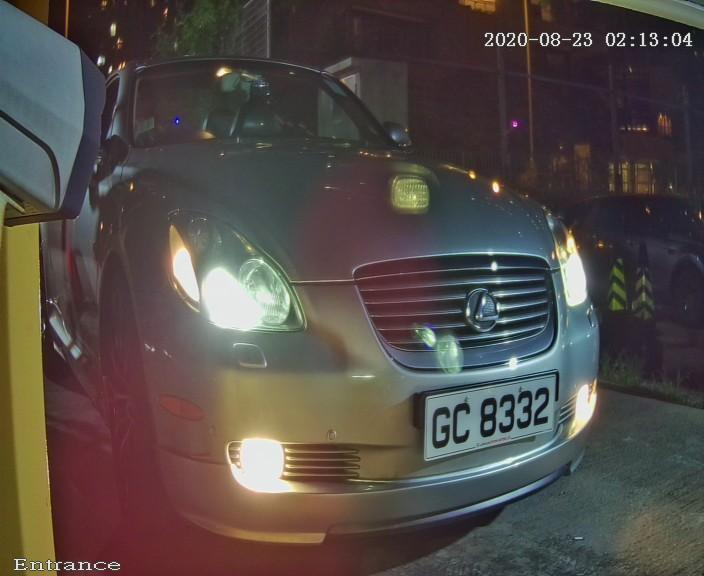Car: (13, 1, 664, 576)
License Plate: (389, 343, 576, 485)
